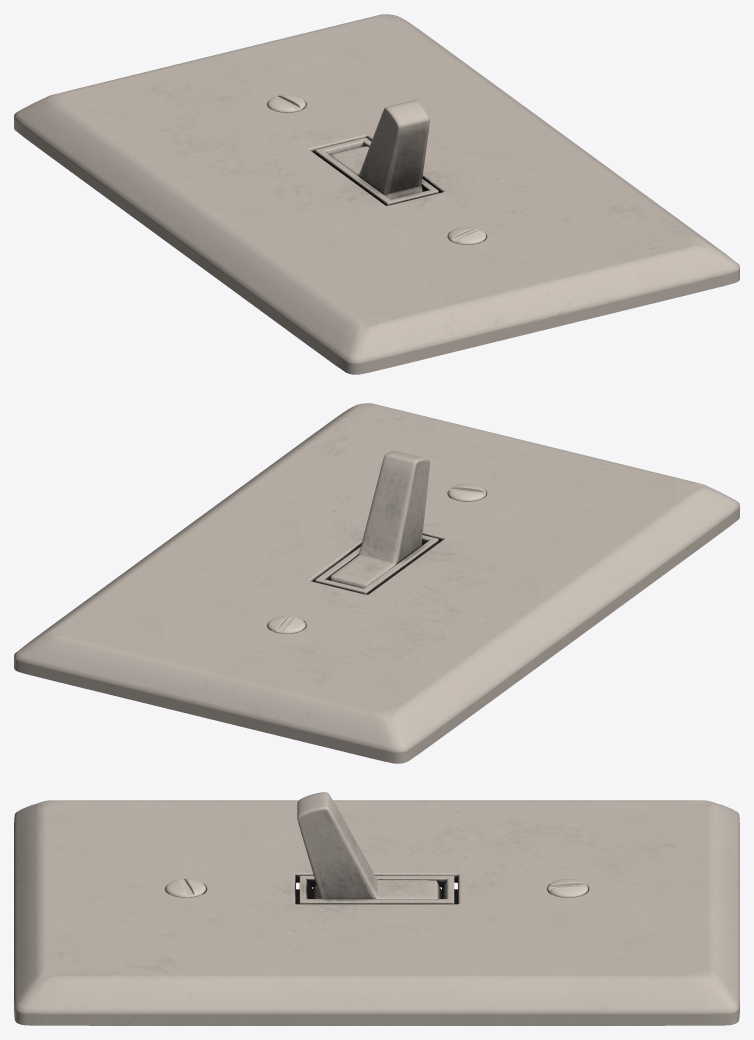
Rendered from Switch.glb.
3 renders of one model, top to bottom at view 1: azimuth 30°, elevation 25°; view 2: azimuth 150°, elevation 25°; view 3: azimuth 270°, elevation 25°, orthographic. The views are drawn at different scales.
Visible parts, largest first — view 1: kaiguan; view 2: kaiguan; view 3: kaiguan.
Part boxes in pixels (x1,y1,x2,y2): kaiguan: (14, 14, 739, 374); kaiguan: (14, 403, 739, 763); kaiguan: (14, 792, 739, 1025).
Bounding box in the file's own units: 0.1134 × 0.0323 × 0.1709.
Materials: 1 (1 with a texture image).
